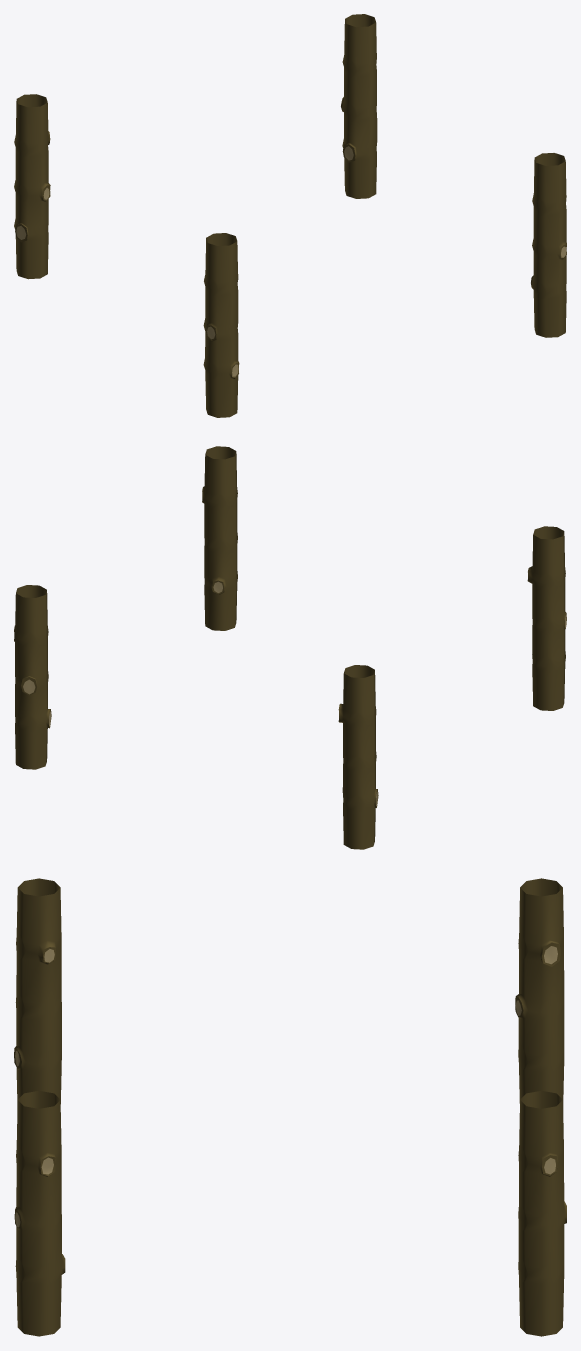
The model's file is Poles_Build_V4.fbx.
The picture shows the model from 3 angles, top to bottom: view 1: azimuth 30°, elevation 25°; view 2: azimuth 150°, elevation 25°; view 3: azimuth 270°, elevation 25°; orthographic projection. The views are drawn at different scales.
Parts seen in each view (by area): view 1: polySurface6; view 2: polySurface6; view 3: polySurface6.
Part boxes in pixels (<box>): polySurface6: <box>14,14,566,417</box>; polySurface6: <box>14,446,566,849</box>; polySurface6: <box>14,878,566,1336</box>.
Bounding box in the file's own units: 4.4 × 2 × 4.4.
